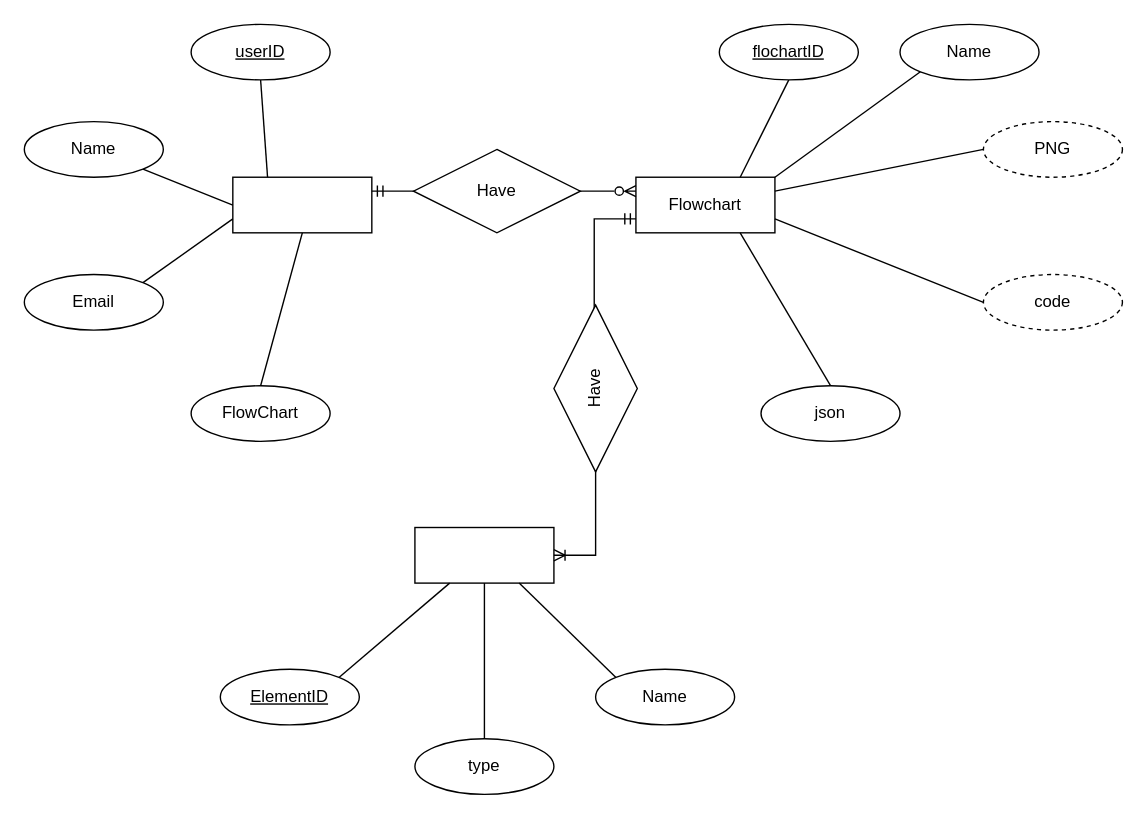
The diagram is 1147 pixels wide and 819 high, and some of its shapes have lost their labels. The centre of each missing label's shape, as x and y in pixels:
"Elements" belongs at point 484,554.
"User" belongs at point 301,204.
